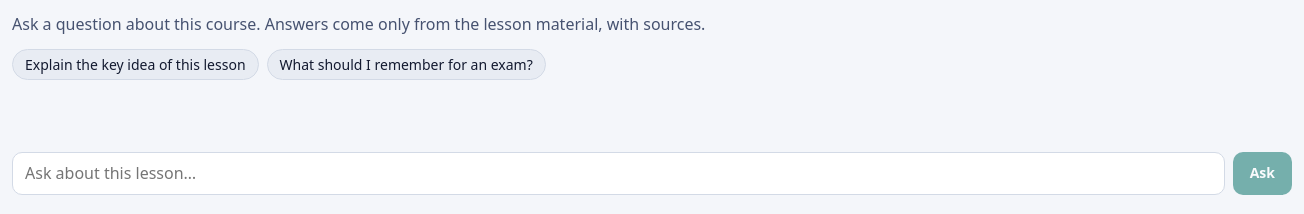
Test case: TutorPanel › explains an unavailable AI service in plain language
The width and height of the screenshot is (1304, 214).
In the field named "Your question": coordinates (618, 173) [12,152,1225,195], type "Explain indexing"
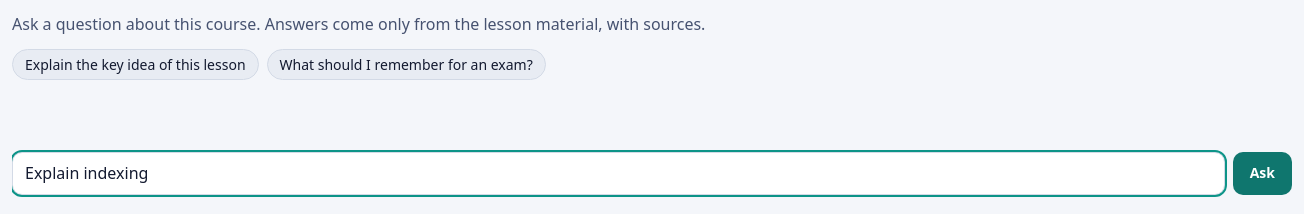
Click the button "Ask": coordinates (1262, 173) [1233,152,1292,195]
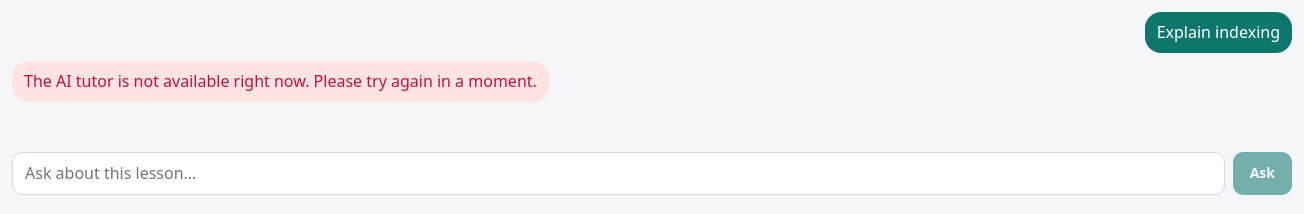
Check: the text "AI tutor is not available" is shown, box [24,70,537,92]
